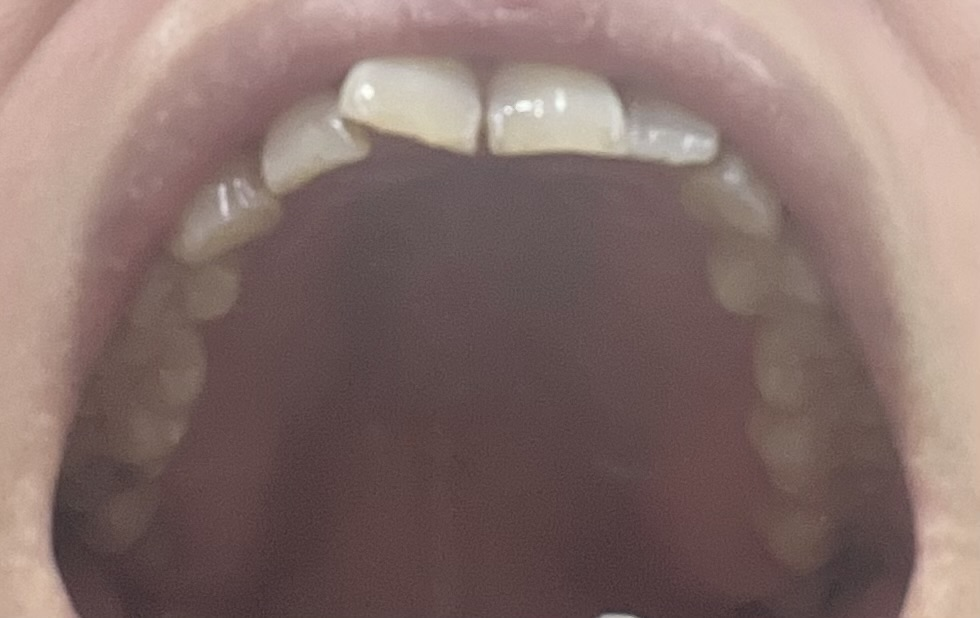teeth: (338, 60, 476, 151), (497, 65, 622, 153), (180, 157, 283, 260), (265, 95, 368, 187), (710, 243, 824, 318), (762, 321, 867, 401), (686, 153, 776, 236), (630, 88, 713, 155)
